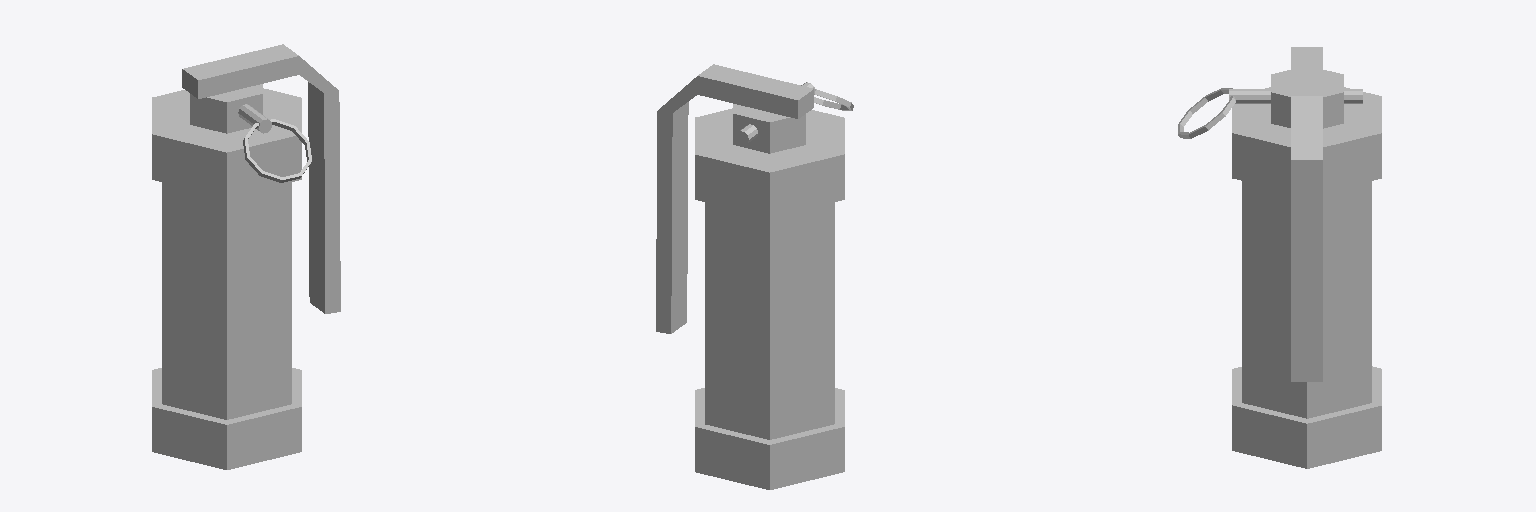
The model's file is Smoke.obj.
3 renders of one model, left to right at view 1: azimuth 30°, elevation 25°; view 2: azimuth 150°, elevation 25°; view 3: azimuth 270°, elevation 25°, orthographic.
Parts seen in each view (by area): view 1: Smoke; view 2: Smoke; view 3: Smoke.
Part boxes in pixels (x1,y1,x2,y2): Smoke: (152, 44, 340, 469); Smoke: (656, 64, 853, 489); Smoke: (1178, 47, 1381, 468).
Bounding box in the file's own units: 0.4172 × 0.8108 × 0.4092.